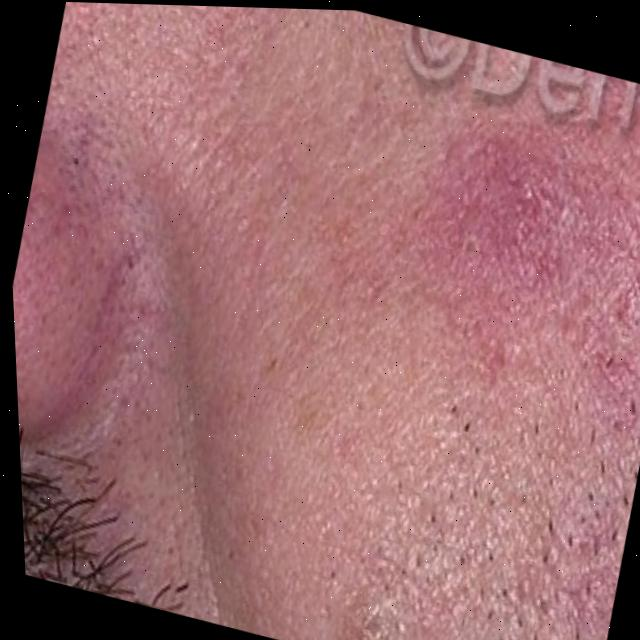Rosacea: (382, 78, 640, 359)
